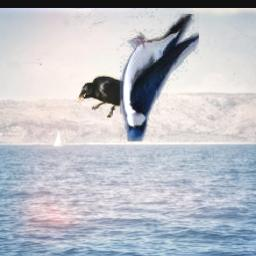Crow: (77, 76, 140, 119)
Swallow: (120, 14, 199, 141)
